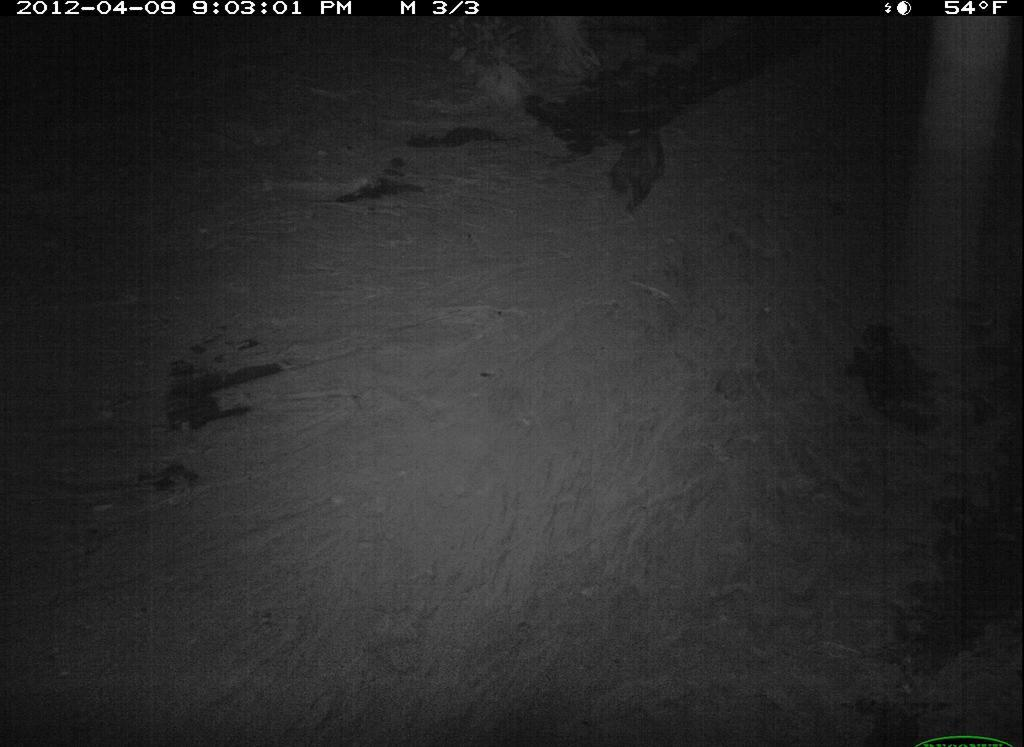opossum: (585, 98, 681, 221)
